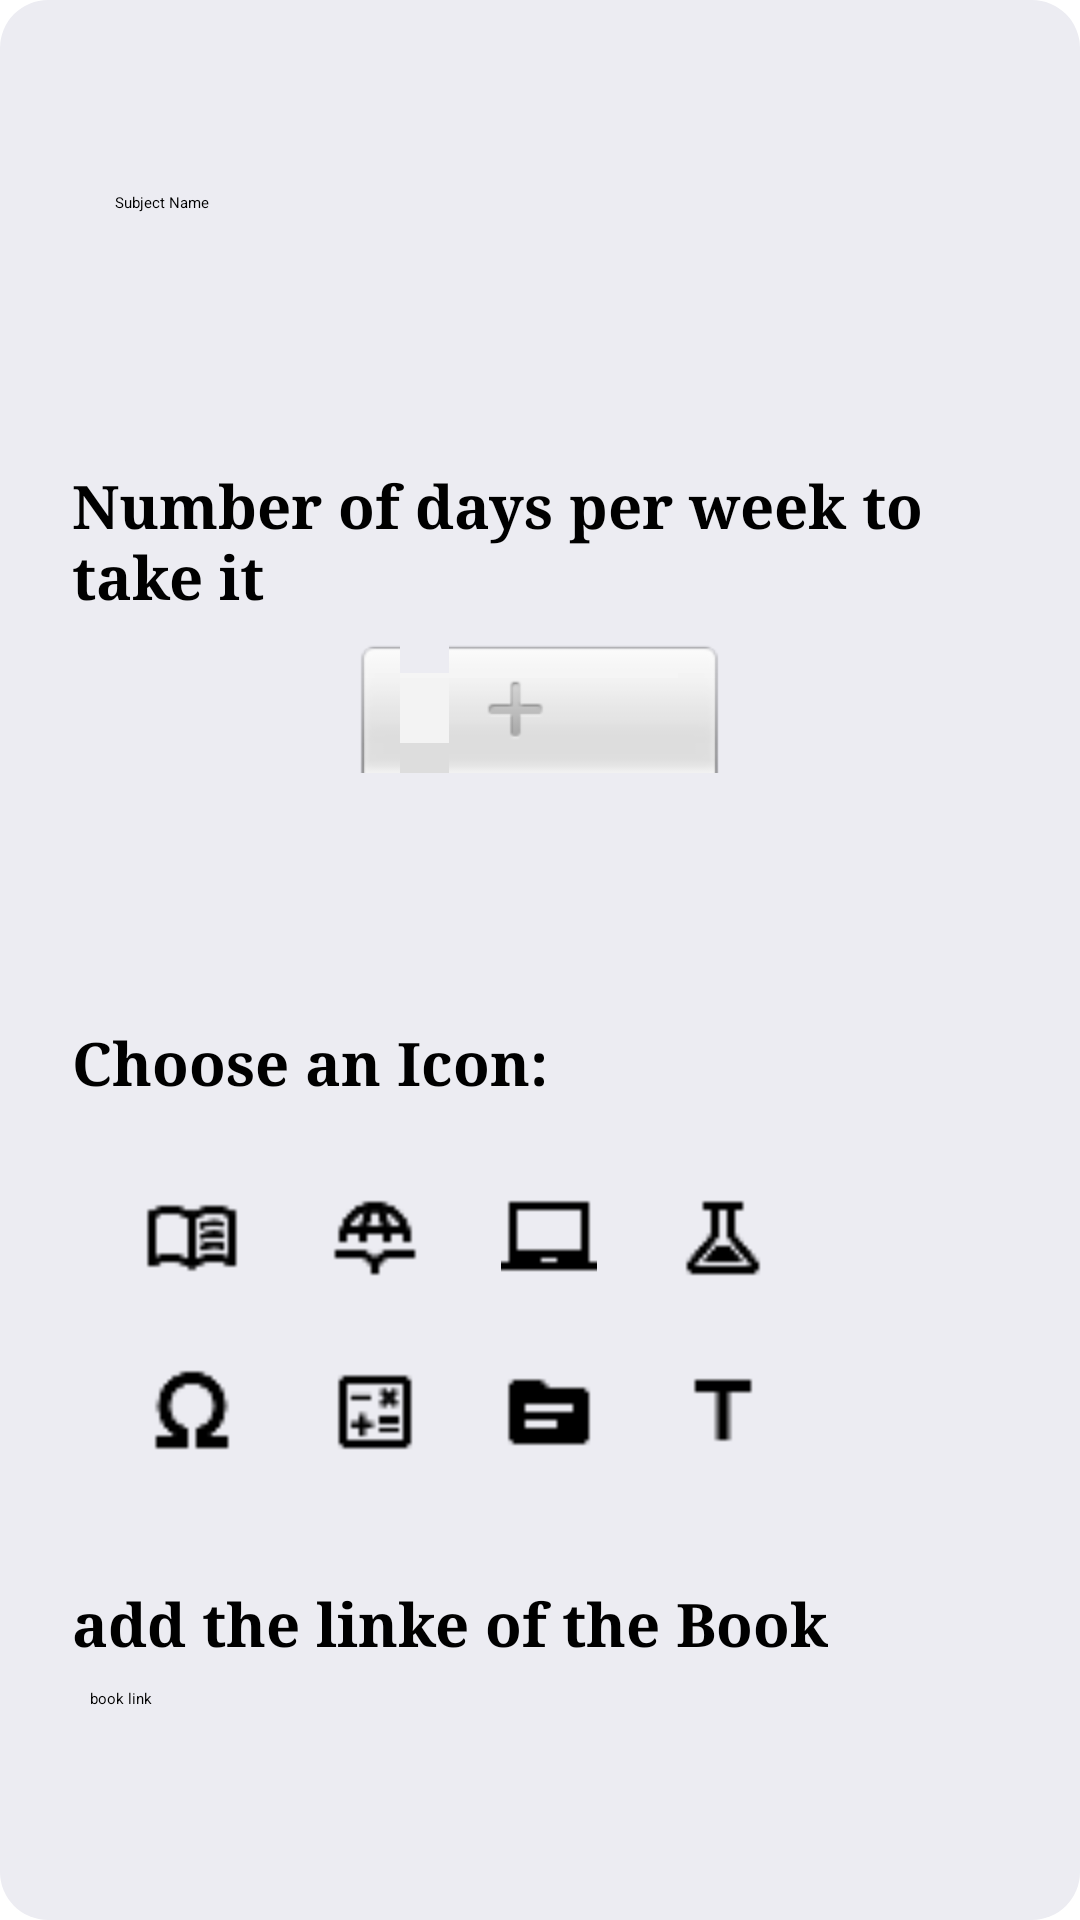

Named icons in this screenshot (1080px×1920px) and their bounding boxes, [x1, y1, x2, y2]:
book icon: [146, 1204, 238, 1271]
chemistry: [685, 1200, 761, 1276]
internet icon: [333, 1200, 417, 1276]
laptop icon: [501, 1200, 597, 1272]
mathematics: [337, 1374, 413, 1450]
physics: [154, 1370, 230, 1450]
ticon: [693, 1378, 753, 1442]
